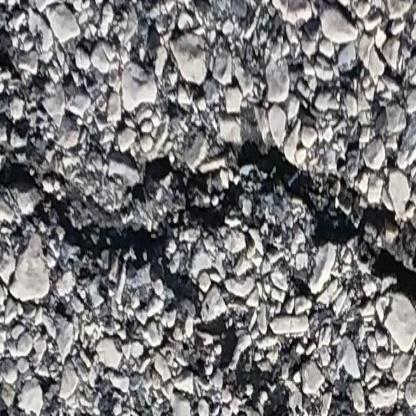Cracks: (16, 158, 315, 416), (183, 110, 416, 304), (0, 147, 38, 193), (0, 98, 32, 136), (0, 37, 16, 81)
